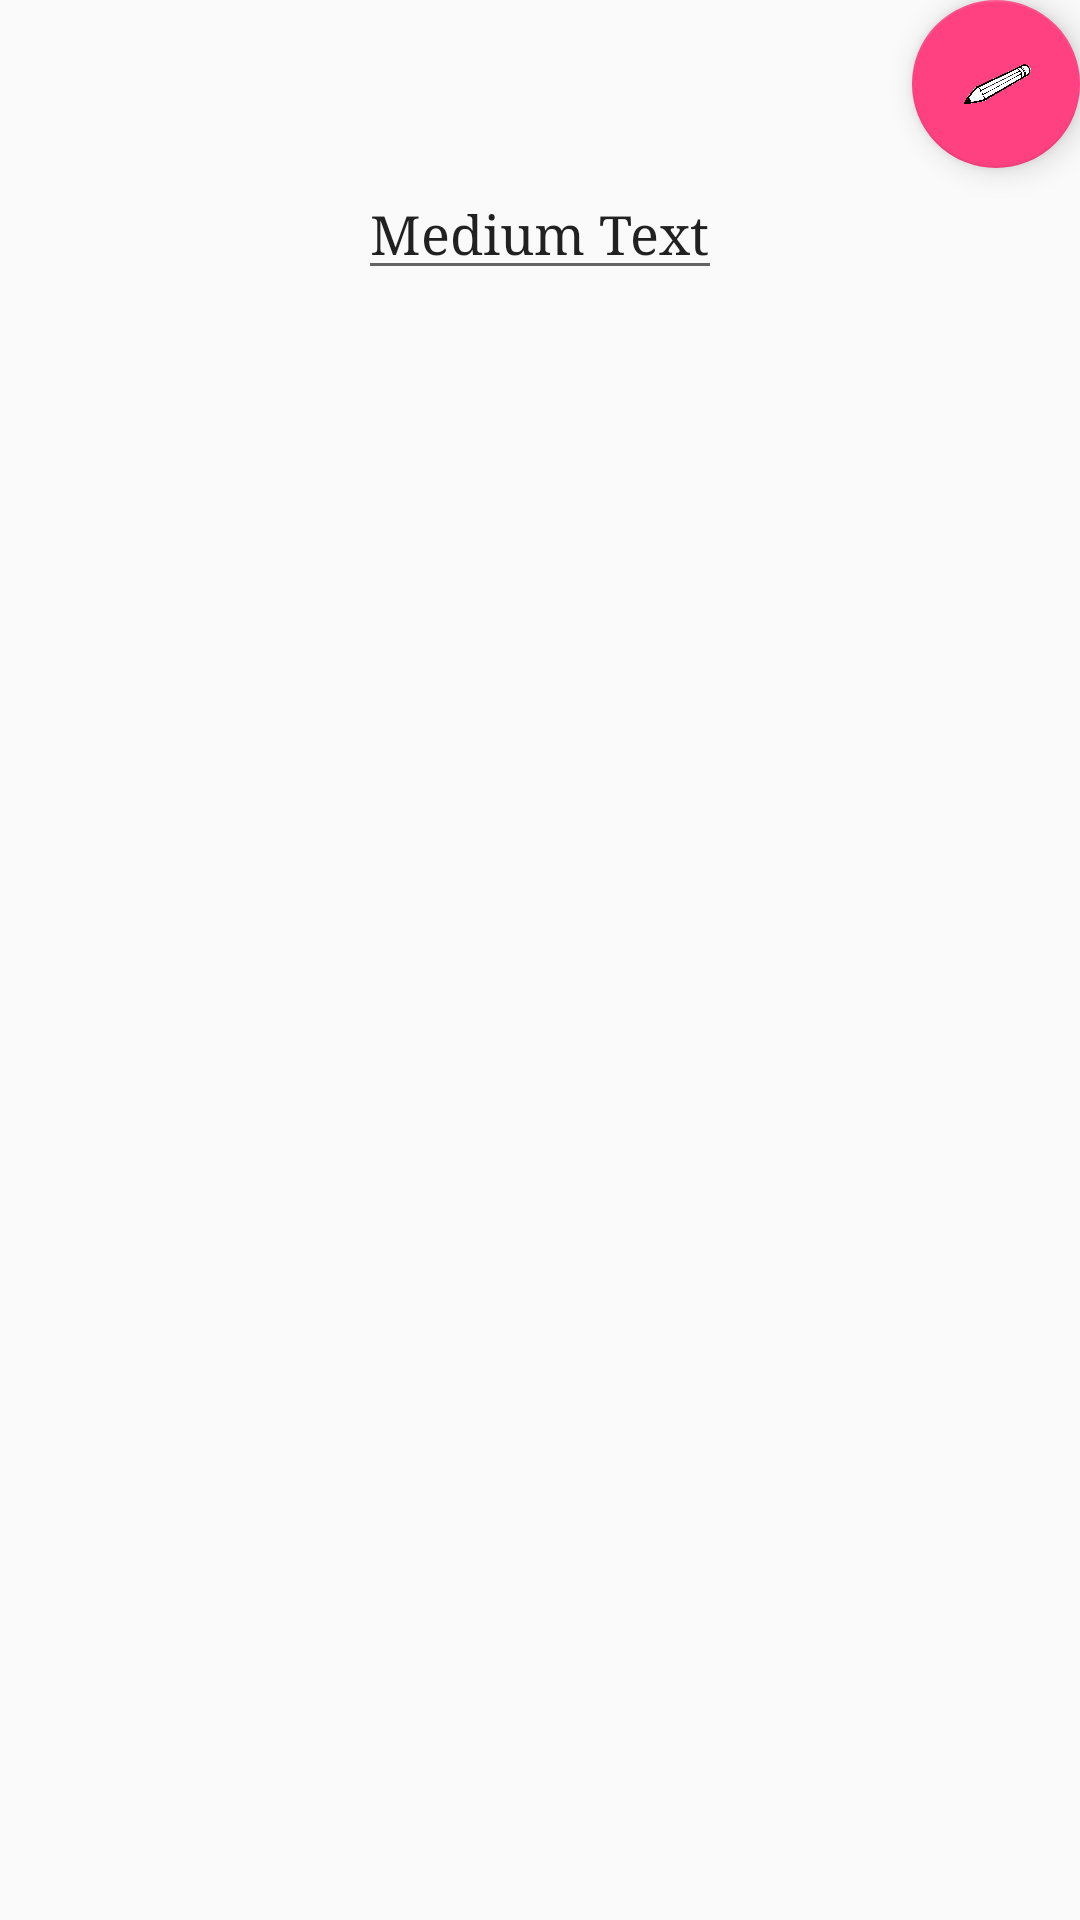

Where to tap for icons on this 1080px×1920px app screen, as (x=x, y=y):
crayon: (x=996, y=84)
